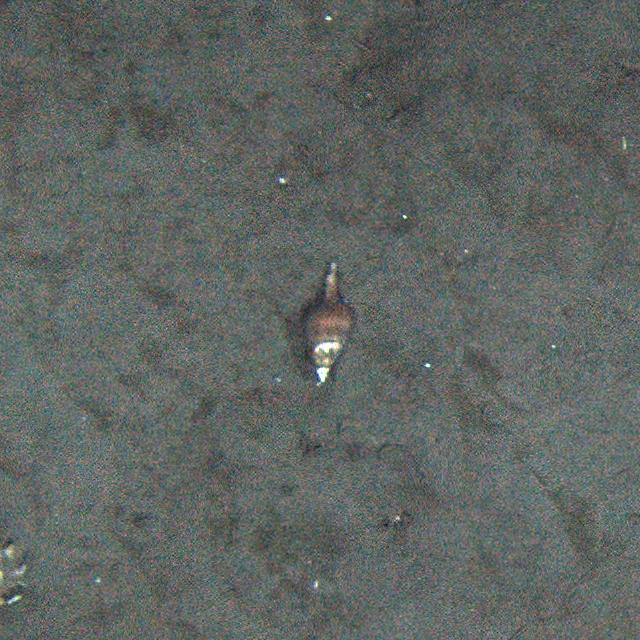whelk: (298, 261, 352, 383)
